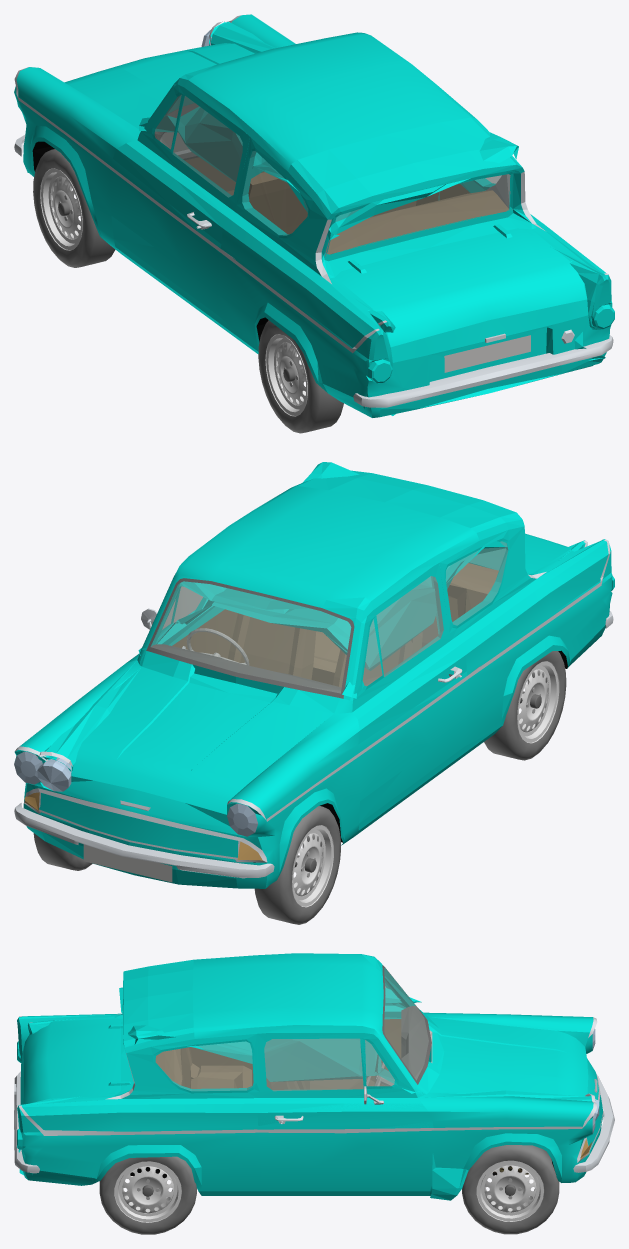
File: Anglia.fbx
The picture shows the model from 3 angles, top to bottom: view 1: azimuth 30°, elevation 25°; view 2: azimuth 150°, elevation 25°; view 3: azimuth 270°, elevation 25°; orthographic projection. The views are drawn at different scales.
Parts seen in each view (by area): view 1: Roof, Trunk, CarBody, RLWing, FLDoor.Crunch, Roof.Crunch, FLDoor, FLWing, Interior1, Bonnet, Roof.Mangle, Rear (+12 smaller); view 2: Roof, Bonnet, Windscreen, RLWing, FLDoor.Crunch, CarBody, FLWing, FLDoor, Grille, Interior1, Roof.Crunch, Roof.Mangle (+12 smaller); view 3: FRDoor, RRWing, Roof, FRDoor.Crunch, FRWing, CarBody, Bonnet, Trunk, Roof.Mangle, Roof.Crunch, Interior1, FRTyre (+13 smaller).
Boxes of the visible parts, x1,y1,x2,y2 form: Roof: (184, 32, 475, 171); Trunk: (335, 228, 588, 362); CarBody: (32, 95, 544, 341); RLWing: (218, 218, 402, 417); FLDoor.Crunch: (110, 84, 249, 323); Roof.Crunch: (141, 65, 524, 219); FLDoor: (110, 95, 242, 315); FLWing: (14, 67, 141, 254); Interior1: (185, 157, 512, 254); Bonnet: (64, 43, 254, 129); Roof.Mangle: (139, 106, 518, 239); Rear: (379, 315, 598, 416); Roof: (142, 486, 479, 650); Bonnet: (71, 667, 333, 814); Windscreen: (146, 578, 354, 698); RLWing: (460, 539, 614, 746); FLDoor.Crunch: (352, 563, 468, 830); CarBody: (39, 526, 567, 888); FLWing: (227, 698, 359, 888); FLDoor: (358, 576, 467, 822); Grille: (38, 776, 243, 859); Interior1: (193, 563, 498, 693); Roof.Crunch: (141, 470, 524, 700); Roof.Mangle: (138, 462, 507, 698); FRDoor: (257, 1033, 433, 1191); RRWing: (17, 1095, 261, 1195); Roof: (192, 953, 415, 1088); FRDoor.Crunch: (257, 1033, 433, 1133); FRWing: (415, 1085, 597, 1195); CarBody: (105, 1009, 603, 1195); Bonnet: (429, 1017, 588, 1096); Trunk: (14, 1018, 120, 1104); Roof.Mangle: (119, 987, 421, 1093); Roof.Crunch: (122, 954, 417, 1089); Interior1: (155, 1024, 431, 1089); FRTyre: (462, 1145, 559, 1234).
Bounding box in the file's own units: 163 × 146 × 393.
